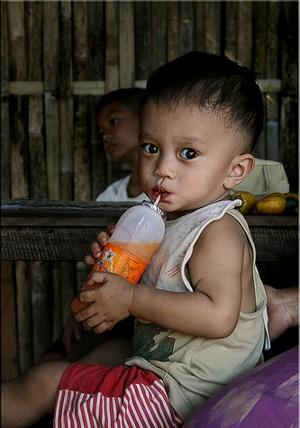person: (1, 54, 267, 428)
